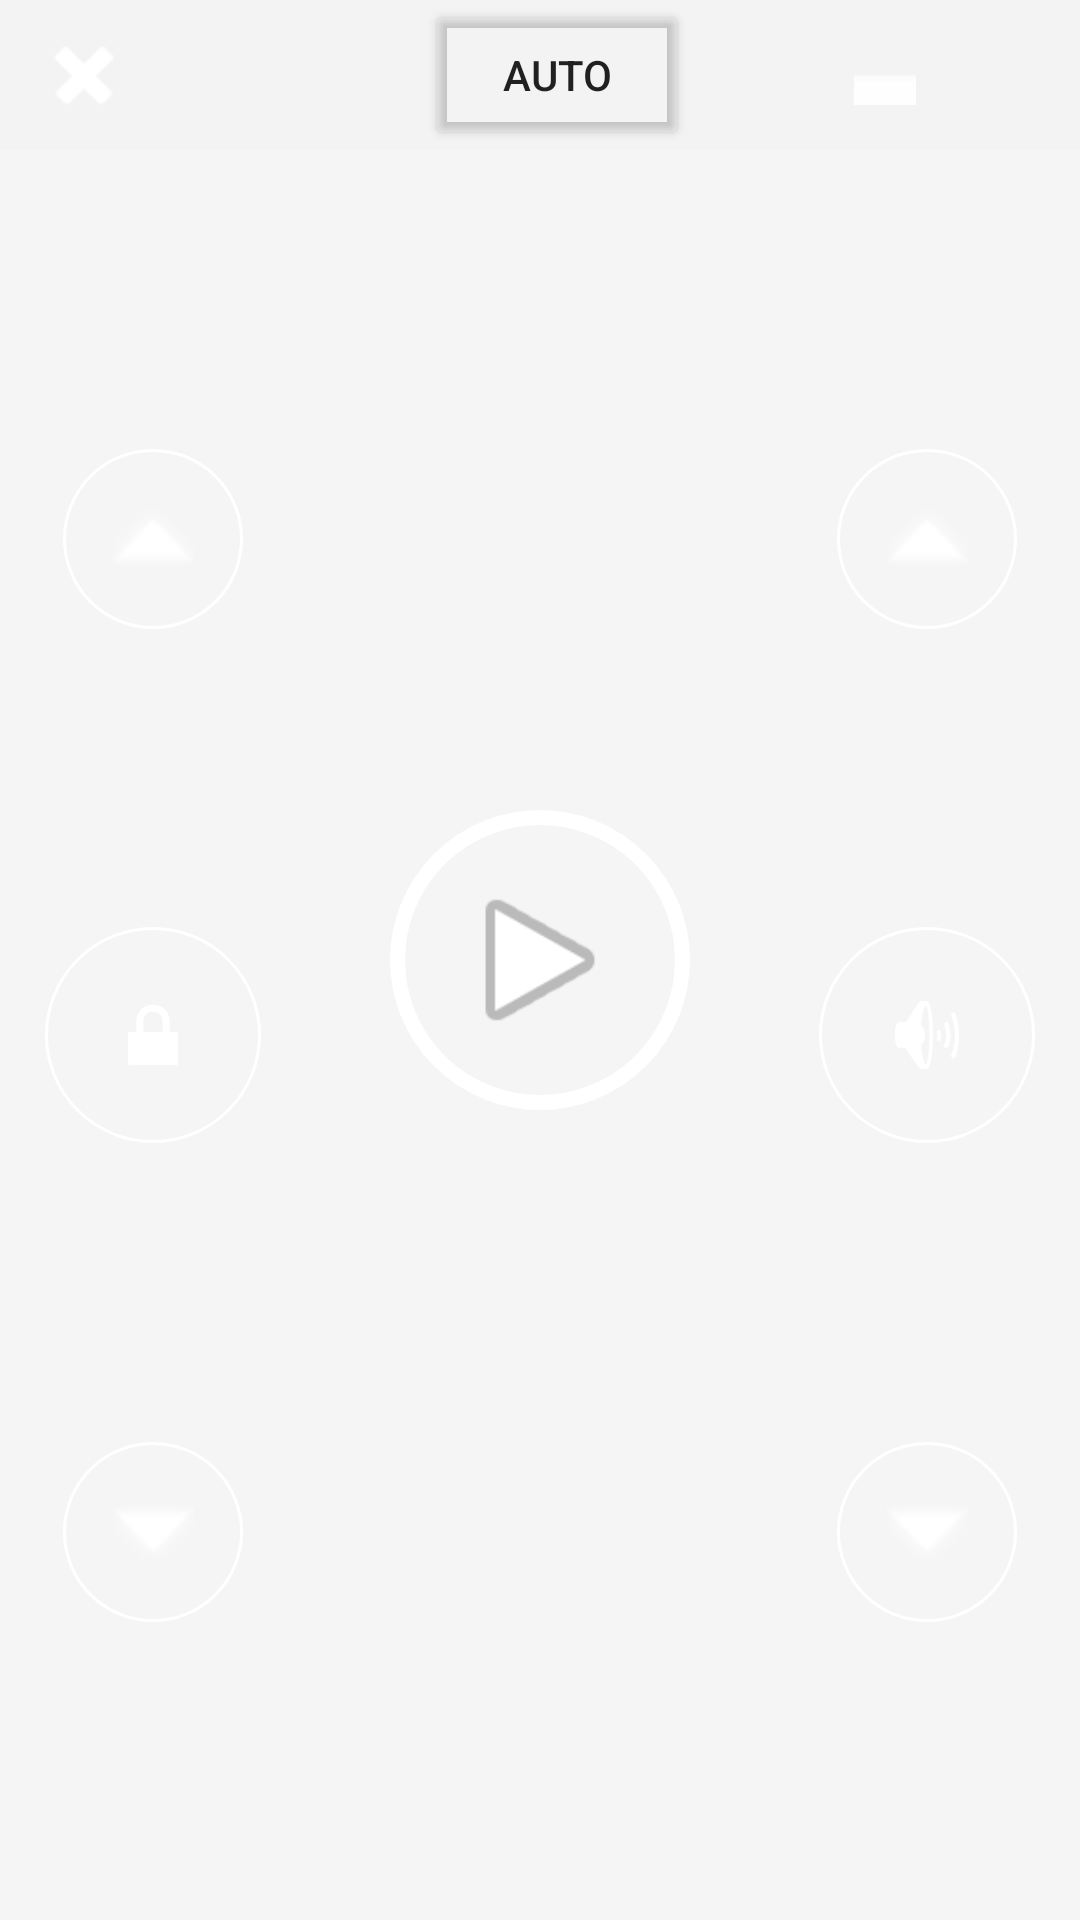

Named icons in this screenshot (1080px×1920px) and their bounding boxes, [left=x1, top=y1, right=x2, bottom=y2]:
play: [left=485, top=900, right=595, bottom=1020]
